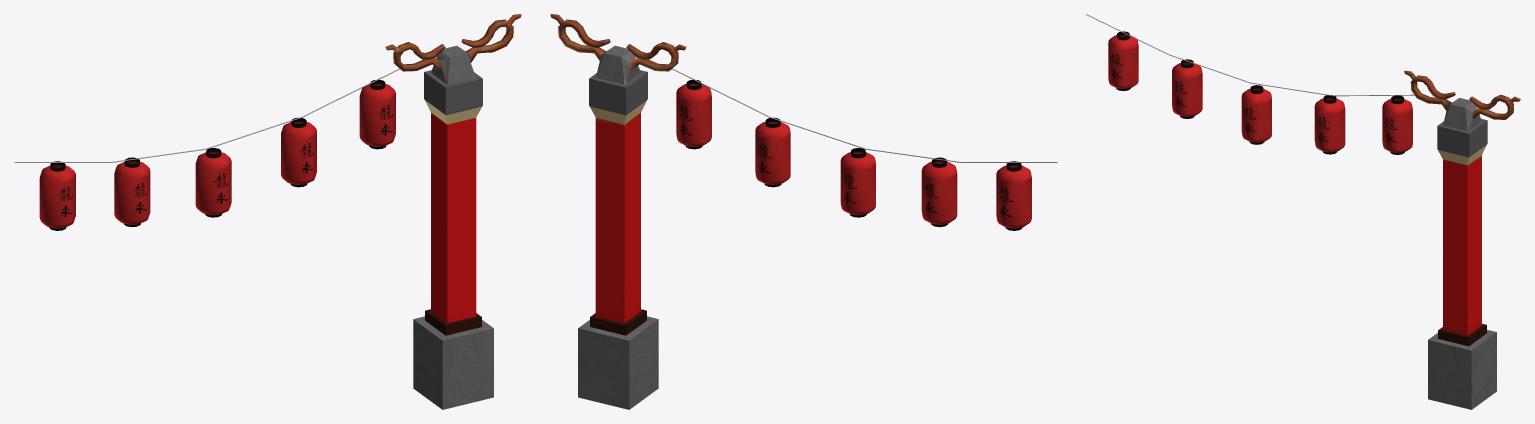
File: FarolsOnePost.fbx
3 renders of one model, left to right at view 1: azimuth 30°, elevation 25°; view 2: azimuth 150°, elevation 25°; view 3: azimuth 330°, elevation 25°, orthographic. The views are drawn at different scales.
Parts seen in each view (by area): view 1: FarolPosts; view 2: FarolPosts; view 3: FarolPosts.
Part boxes in pixels (<box>): FarolPosts: <box>14,14,521,409</box>; FarolPosts: <box>550,14,1057,409</box>; FarolPosts: <box>1086,14,1520,409</box>.
Size of the model in its own units: 30.87 by 21.12 by 3.12.
Materials: 3 (2 with a texture image).
